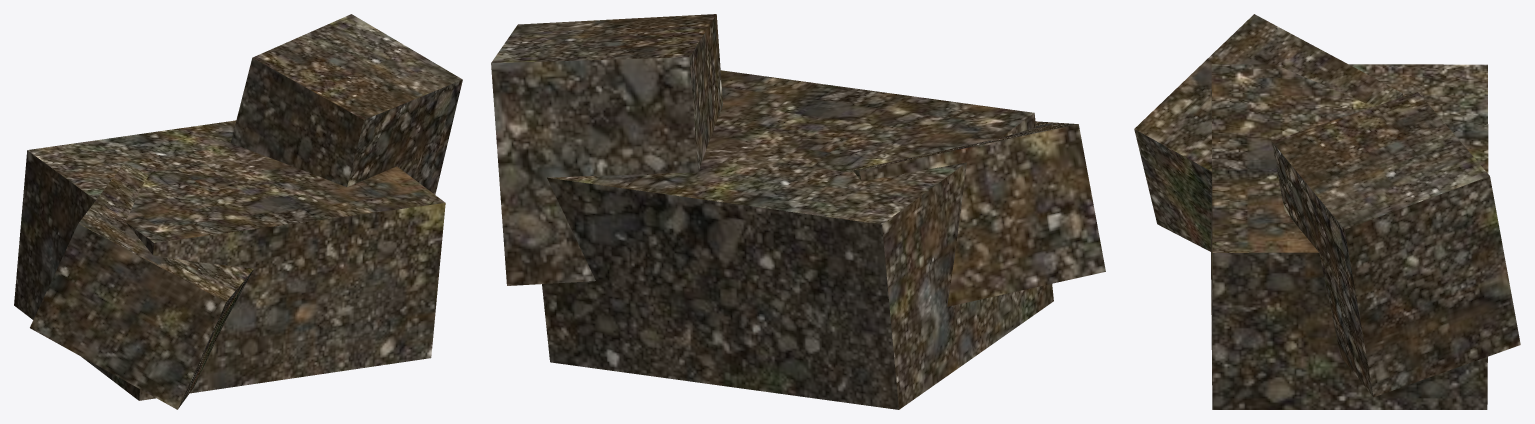
File: rubble.glb
3 views of the same model, side by side, from view 1: azimuth 30°, elevation 25°; view 2: azimuth 150°, elevation 25°; view 3: azimuth 270°, elevation 25° (orthographic). The views are drawn at different scales.
Visible parts, largest first — view 1: rubble; view 2: rubble; view 3: rubble.
Boxes of the visible parts, x1,y1,x2,y2 form: rubble: (14,14,462,409); rubble: (491,14,1105,409); rubble: (1134,14,1520,409).
Size of the model in its own units: 1.26 by 0.6538 by 0.8377.
1 material, 1 textured.
